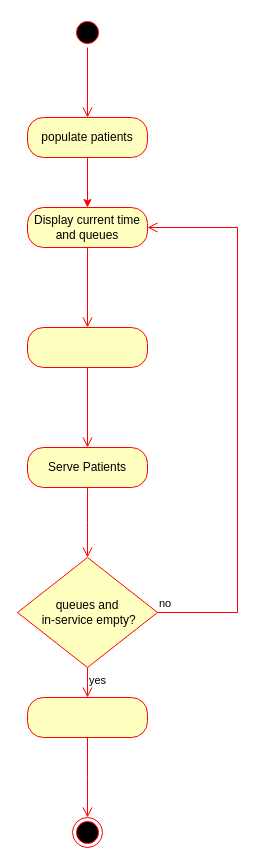
This 265x865 diagram has some shape labels left out. The box of each missing label's shape, as (x1, y1, x2, y2) in pixels:
Display statistics: (26, 696, 148, 738)
Increase current time by 10: (26, 326, 148, 368)
